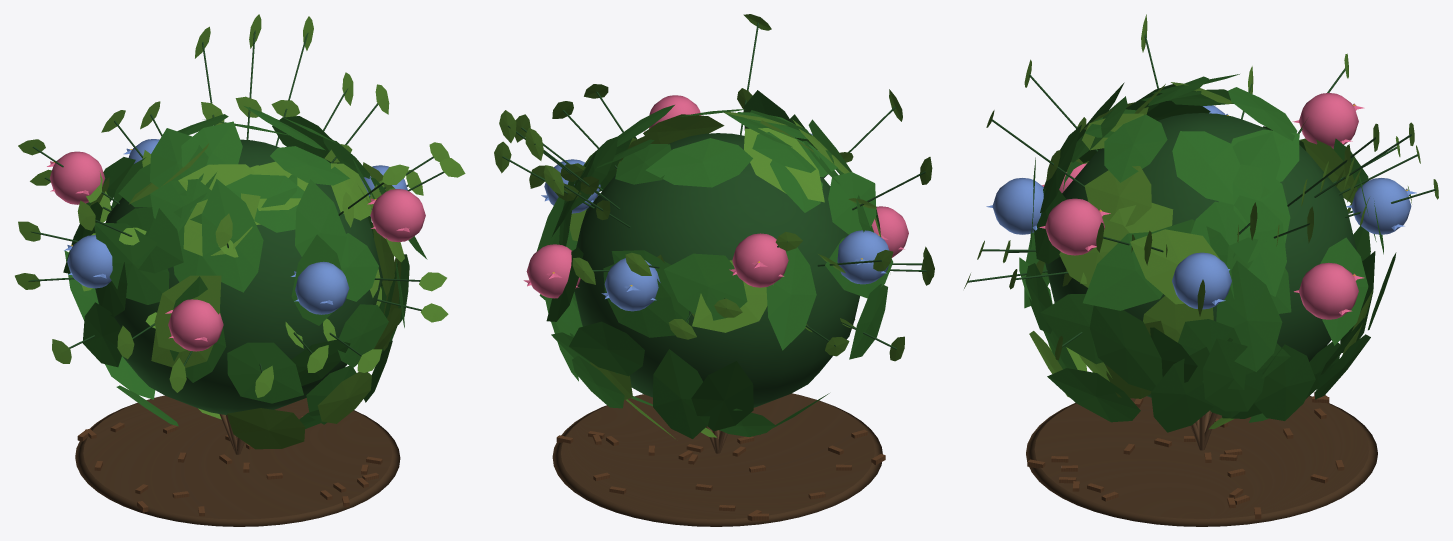
Rendered from HydrangeaBush.fbx.
3 views of the same model, side by side, from view 1: azimuth 30°, elevation 25°; view 2: azimuth 150°, elevation 25°; view 3: azimuth 270°, elevation 25° (orthographic). The views are drawn at different scales.
Parts seen in each view (by area): view 1: HydrangeaBush__Body, HydrangeaBush__Overgrowth; view 2: HydrangeaBush__Body, HydrangeaBush__Overgrowth; view 3: HydrangeaBush__Body, HydrangeaBush__Overgrowth.
Boxes of the visible parts, left/top/right/bottom form: HydrangeaBush__Body: left=47, top=106, right=427, bottom=526; HydrangeaBush__Overgrowth: left=15, top=14, right=465, bottom=397; HydrangeaBush__Body: left=523, top=90, right=908, bottom=526; HydrangeaBush__Overgrowth: left=494, top=14, right=934, bottom=361; HydrangeaBush__Body: left=986, top=74, right=1416, bottom=526; HydrangeaBush__Overgrowth: left=964, top=14, right=1438, bottom=360.
Size of the model in its own units: 112 by 101 by 112.
Materials: 1 (1 with a texture image).
